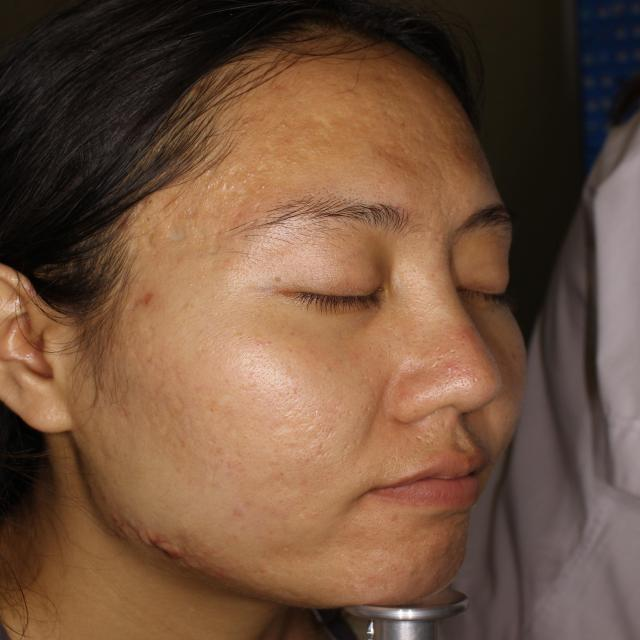acne: (134, 283, 161, 313), (107, 505, 136, 532), (163, 535, 189, 564), (136, 526, 158, 550), (229, 505, 250, 521), (115, 215, 134, 232)
